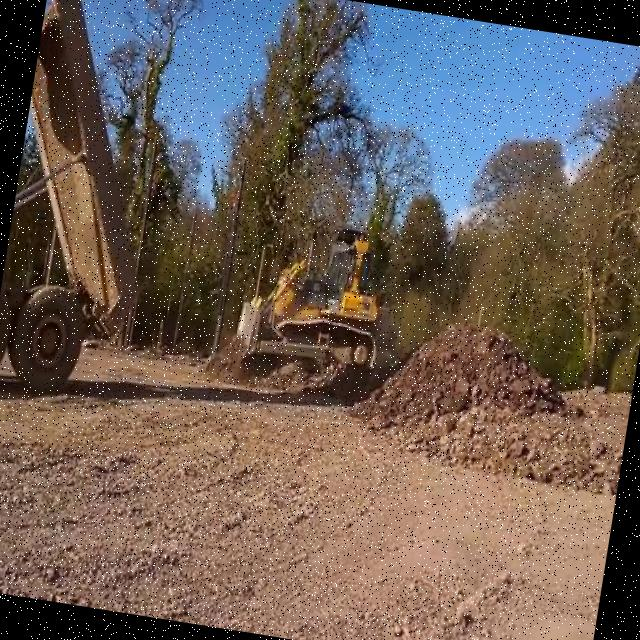Bulldozer: (207, 206, 398, 410)
Dump Truck: (0, 0, 190, 414)
